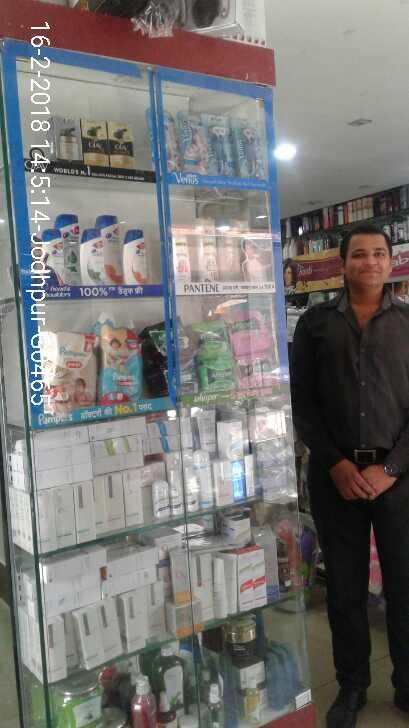venus: (232, 118, 267, 179), (178, 110, 208, 174), (150, 110, 178, 169), (208, 118, 232, 174)
